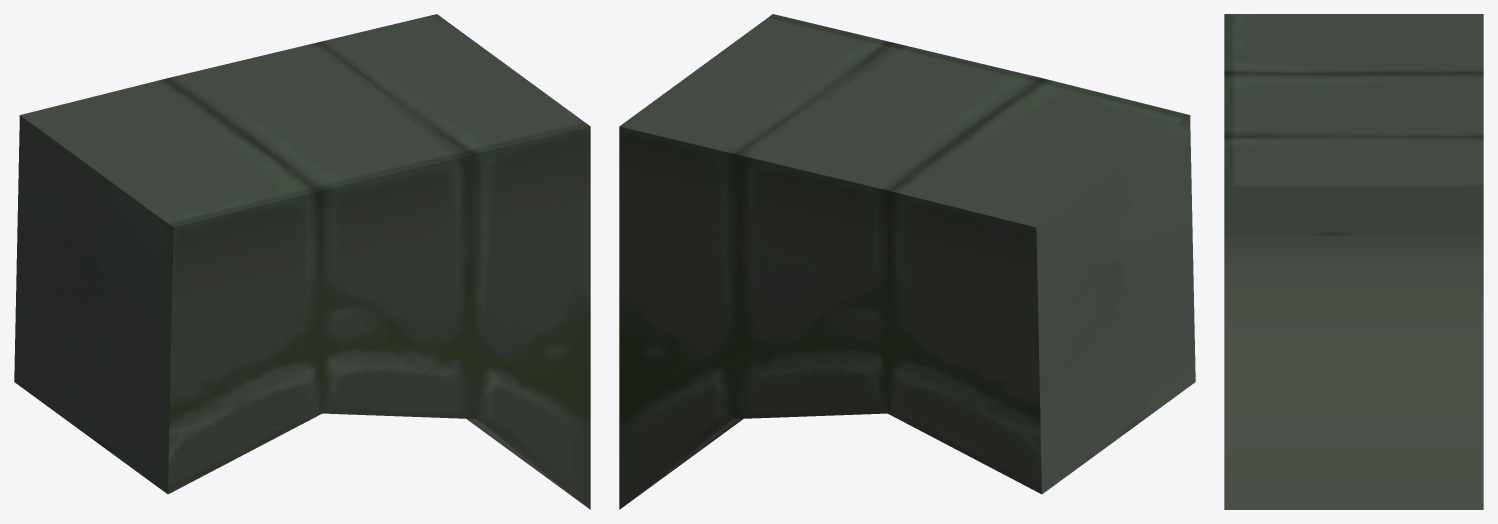
The model's file is yw_shanlin_stelae_003.FBX.
3 views of the same model, side by side, from view 1: azimuth 30°, elevation 25°; view 2: azimuth 150°, elevation 25°; view 3: azimuth 270°, elevation 25° (orthographic). The views are drawn at different scales.
Visible parts, largest first — view 1: yw_shanlin_stelae_003; view 2: yw_shanlin_stelae_003; view 3: yw_shanlin_stelae_003.
Part boxes in pixels (x1=…): yw_shanlin_stelae_003: x1=14, y1=14, x2=590, y2=509; yw_shanlin_stelae_003: x1=619, y1=14, x2=1195, y2=509; yw_shanlin_stelae_003: x1=1224, y1=14, x2=1483, y2=509.
Bounding box in the file's own units: 240 × 151 × 209.
